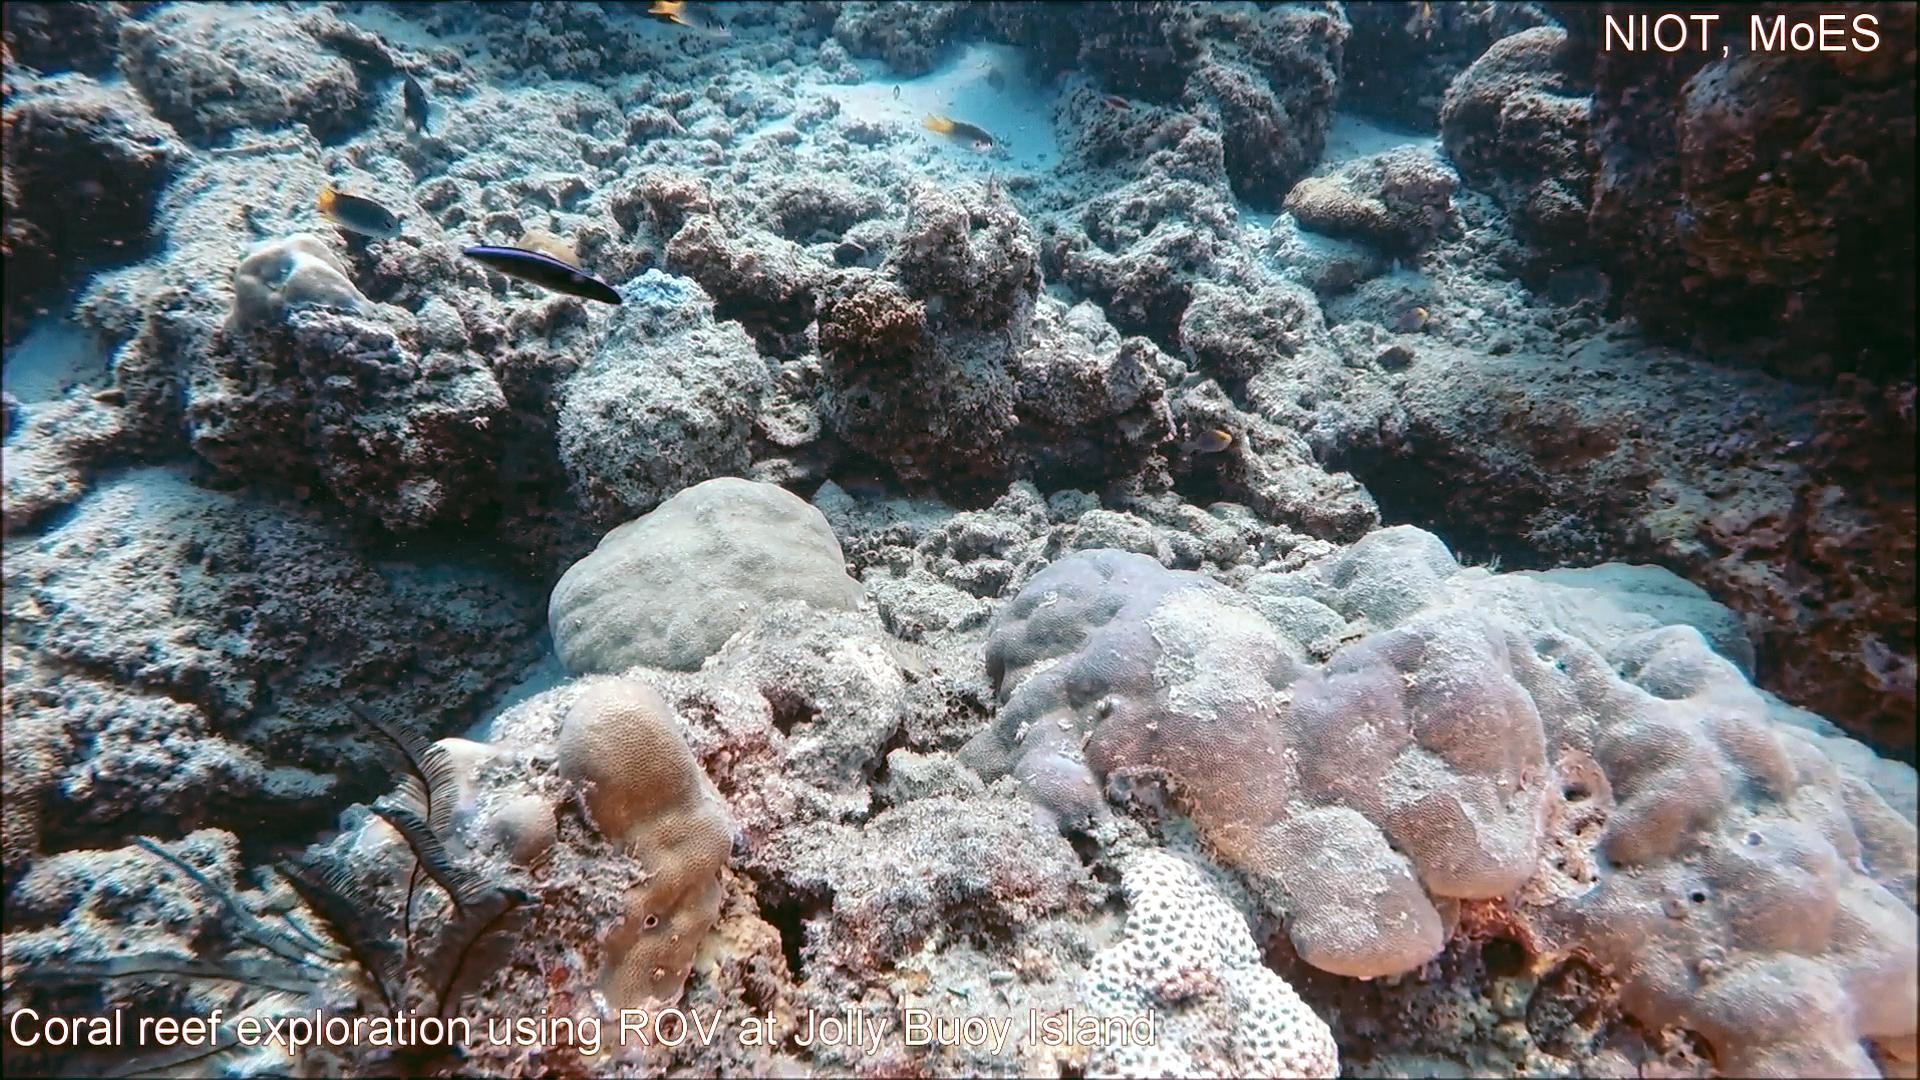Feather star-Crinoid star: (0, 682, 549, 1080)
Goniastrea-Goniastrea pectinata: (1072, 840, 1349, 1080)
Porites-Porites pukoensis: (1406, 521, 1920, 1080)
